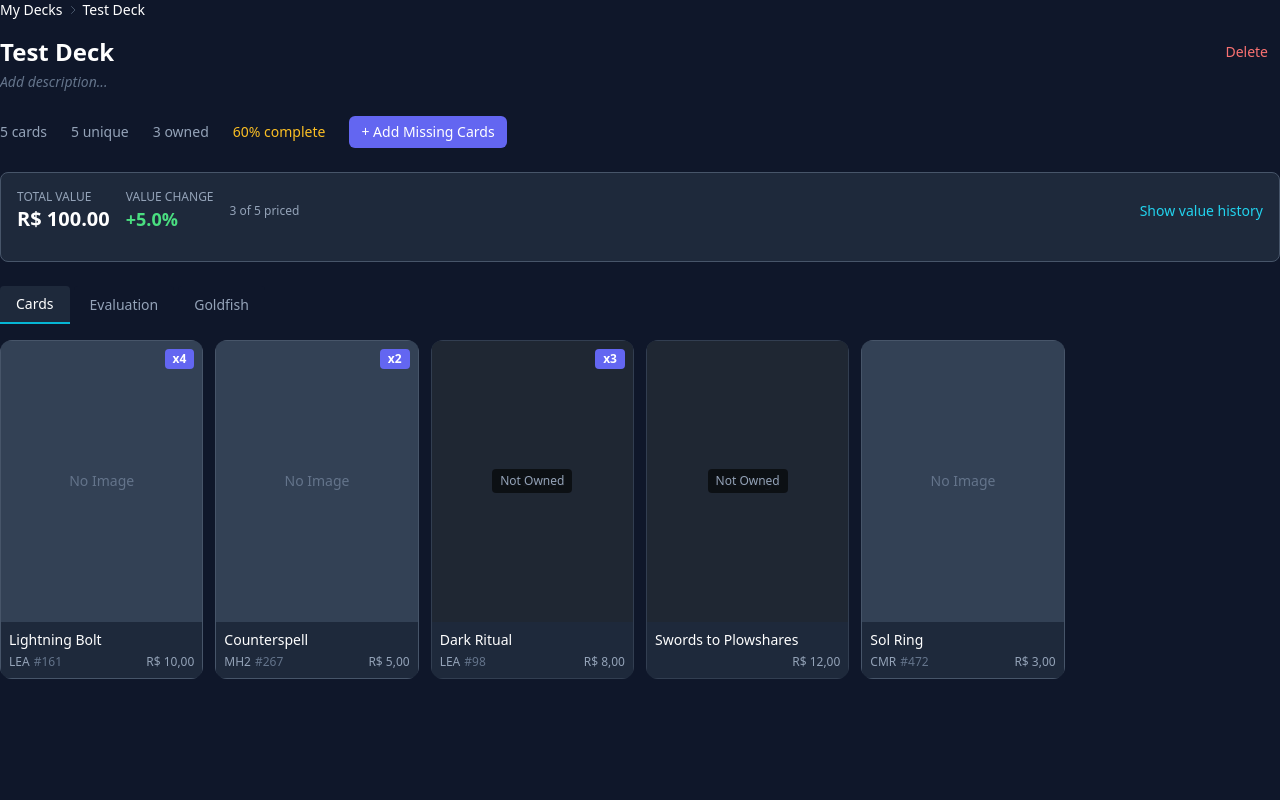
Test case: F97-T05: Add Missing Cards on DeckView › opens BatchAddModal with missing cards text when button is clicked
The width and height of the screenshot is (1280, 800).
Click the button with test id "add-missing-cards-btn" at [428, 132], box [349,116,507,148]
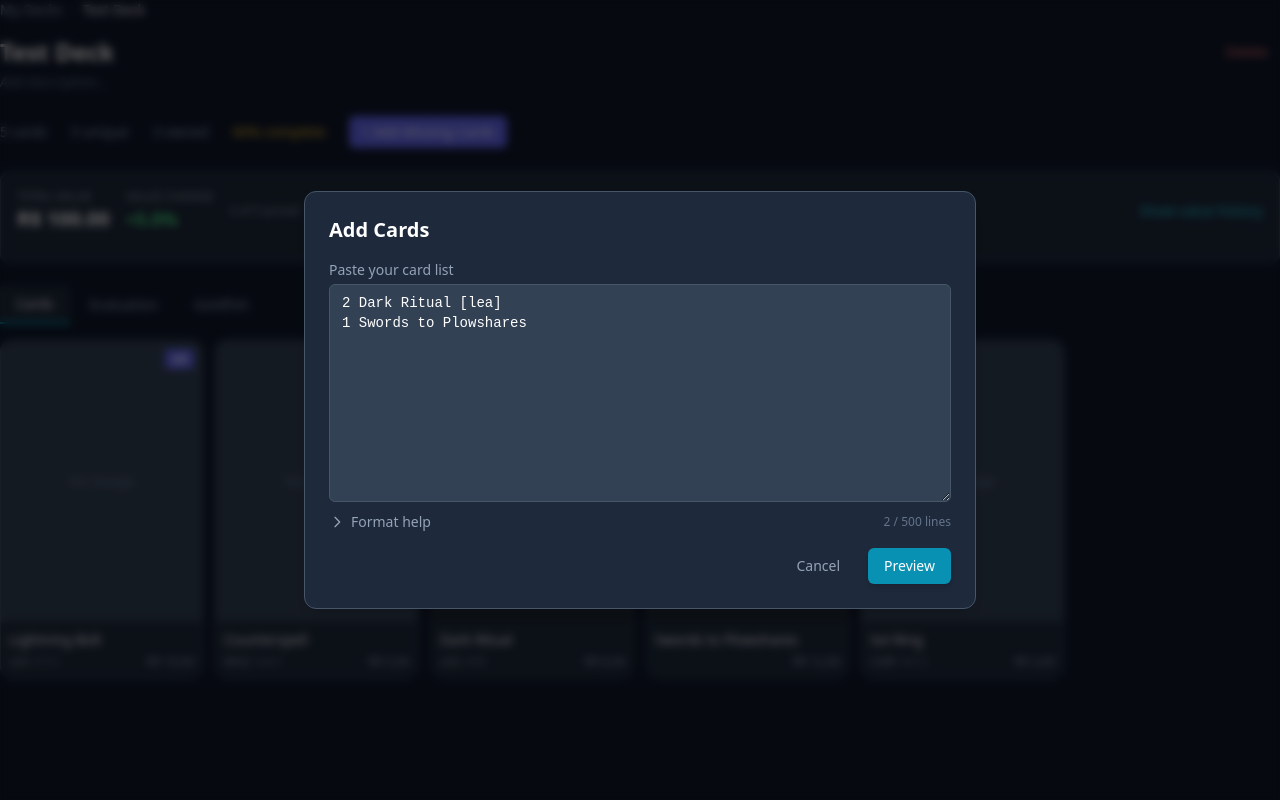
Check: the element with test id "batch-add-modal" is shown
